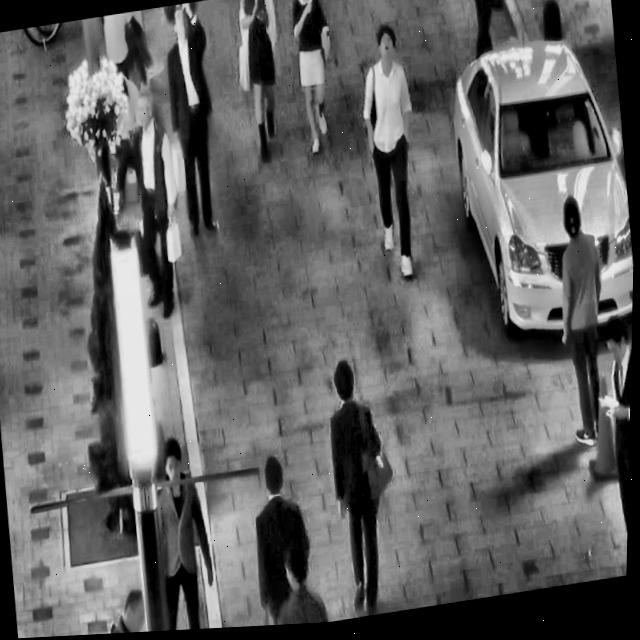light_vehicle: (434, 15, 639, 363)
